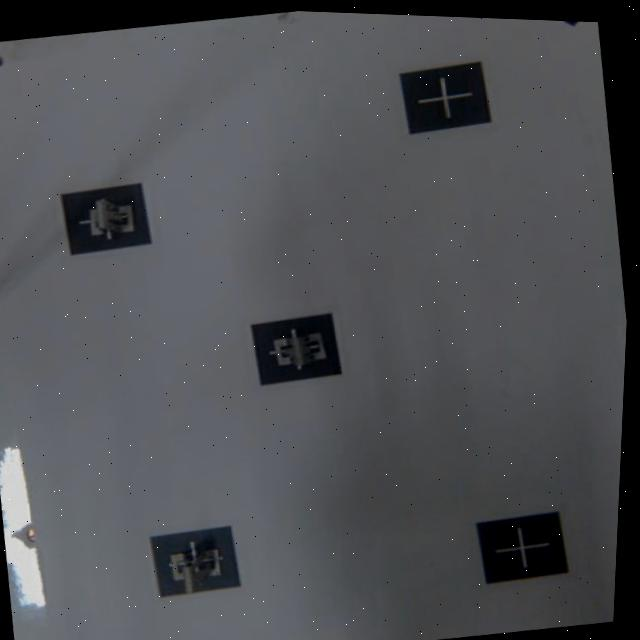pick1: (150, 520, 244, 603)
pick2: (59, 178, 149, 257)
pick3: (247, 306, 344, 394)
